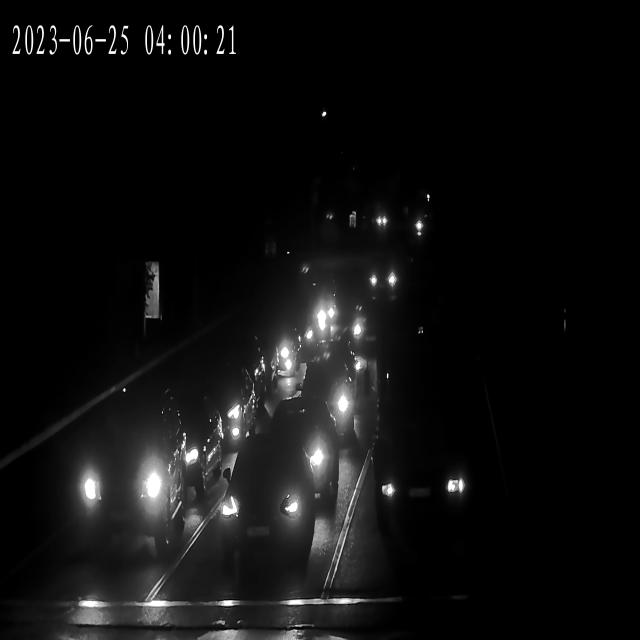Car: (60, 401, 192, 530), (213, 452, 317, 575), (367, 432, 474, 531), (164, 366, 266, 458), (299, 358, 361, 438), (240, 322, 310, 384), (338, 312, 392, 375), (264, 314, 324, 361), (362, 264, 401, 300), (308, 294, 342, 334), (407, 218, 427, 241), (367, 214, 387, 233), (370, 214, 390, 233)
